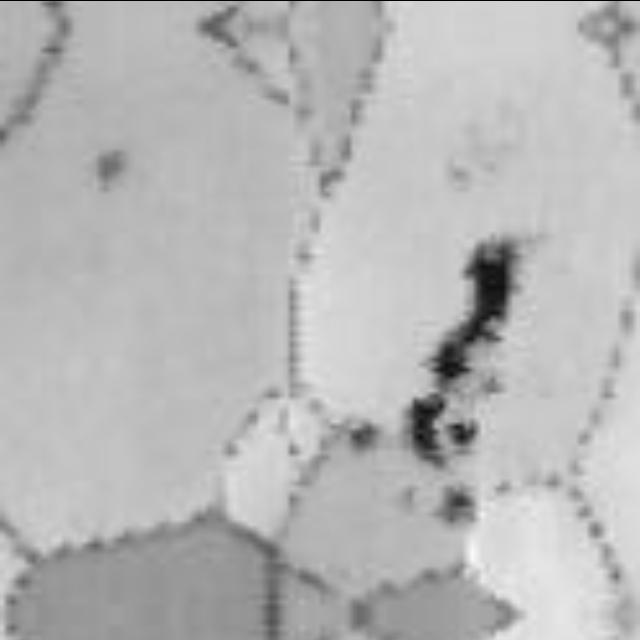good_void: (434, 242, 516, 376), (413, 397, 444, 453), (93, 149, 124, 185), (434, 490, 475, 515), (351, 422, 377, 448), (449, 422, 475, 438), (480, 376, 501, 386)
